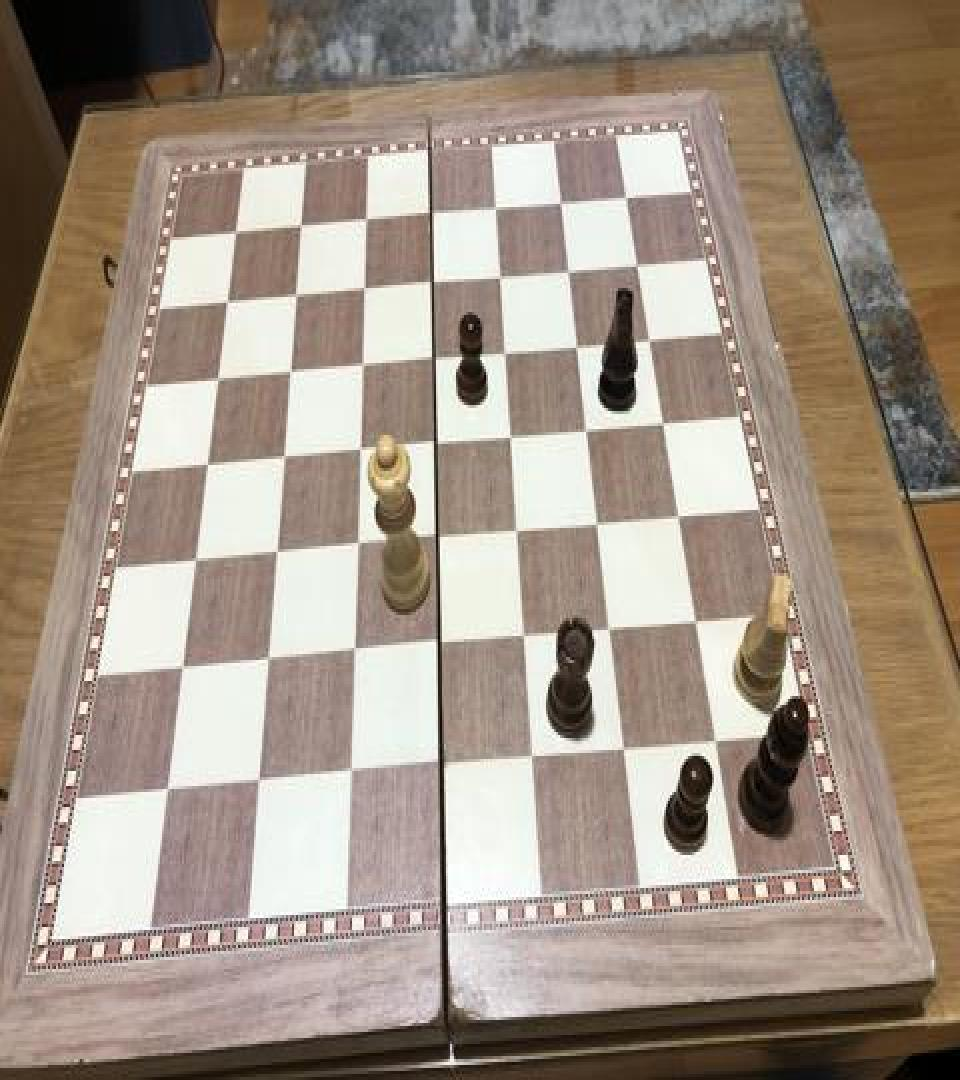xcorner: (341, 637, 365, 674), (171, 652, 195, 689), (614, 183, 638, 219), (549, 189, 573, 225), (484, 195, 508, 231), (419, 201, 443, 237), (354, 207, 378, 243), (289, 213, 313, 249), (224, 219, 248, 255), (625, 250, 649, 286), (557, 256, 581, 292), (488, 262, 512, 298), (420, 270, 444, 306), (352, 276, 376, 312), (283, 282, 307, 318), (215, 288, 239, 324), (637, 326, 661, 362), (565, 332, 589, 368), (493, 339, 517, 375), (421, 345, 445, 381), (350, 351, 374, 387), (278, 358, 302, 394), (206, 364, 230, 400), (651, 408, 675, 444), (575, 416, 599, 452), (499, 423, 523, 459), (423, 429, 447, 465), (347, 436, 371, 472), (271, 444, 295, 480), (195, 450, 219, 486), (666, 501, 690, 537), (586, 508, 610, 544), (505, 516, 529, 552), (425, 524, 449, 560), (344, 531, 368, 567), (264, 538, 288, 574), (184, 546, 208, 582), (683, 606, 707, 642), (597, 614, 621, 650), (512, 621, 536, 657), (427, 630, 451, 666), (256, 645, 280, 681), (702, 724, 726, 760), (611, 732, 635, 768), (520, 741, 544, 777), (429, 750, 453, 786), (338, 758, 362, 794), (247, 766, 271, 802), (156, 774, 180, 810)
